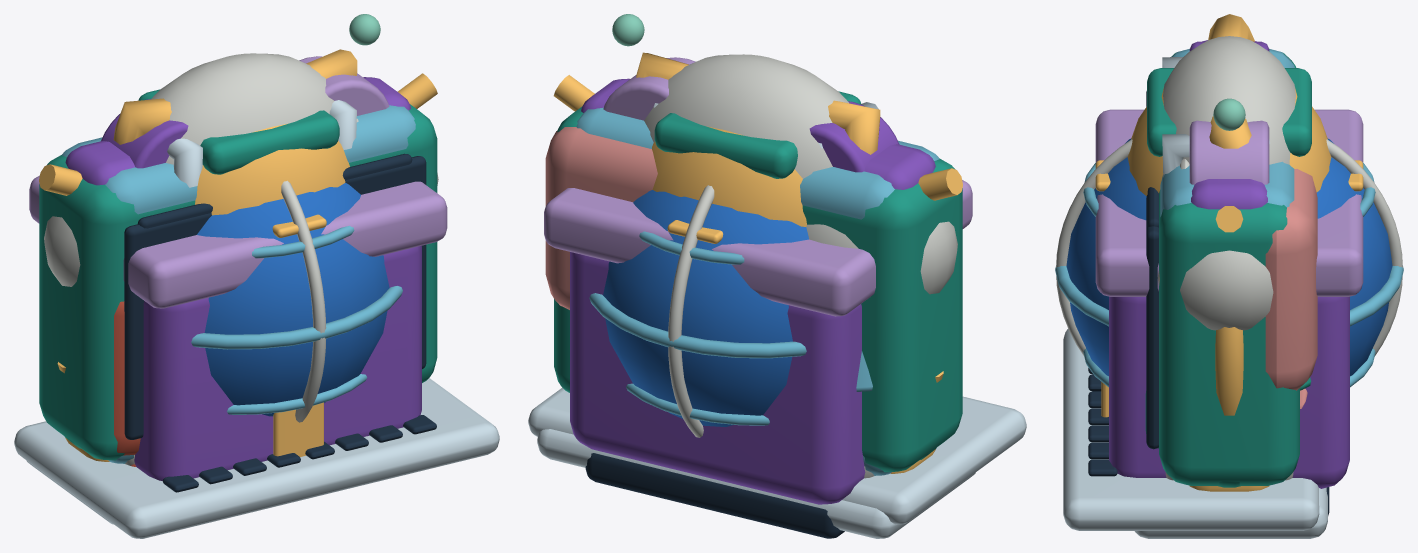
File: navigation-sculptures.glb
The picture shows the model from 3 angles, left to right: view 1: azimuth 30°, elevation 25°; view 2: azimuth 150°, elevation 25°; view 3: azimuth 270°, elevation 25°; orthographic projection. The views are drawn at different scales.
Parts seen in each view (by area): view 1: era-ide, era-lottery, era-developer, era-cloud, miaoji-lab, era-oj, qifa-lab, era-git, acm-team, era-registration, era-forum; view 2: era-lottery, era-ide, era-developer, era-cloud, era-git, miaoji-lab, era-forum, era-oj, qifa-lab, era-team, acm-team; view 3: era-ide, era-lottery, era-developer, era-cloud, era-forum, qifa-lab, era-git, miaoji-lab, era-oj, acm-team, era-team, era-registration.
Boxes of the visible parts, x1,y1,x2,y2 form: era-ide: [14, 104, 499, 538]; era-lottery: [29, 49, 447, 480]; era-developer: [57, 180, 402, 422]; era-cloud: [44, 53, 438, 286]; miaoji-lab: [39, 73, 437, 215]; era-oj: [62, 105, 415, 463]; qifa-lab: [125, 14, 380, 465]; era-git: [101, 56, 389, 168]; acm-team: [65, 77, 410, 185]; era-registration: [167, 100, 356, 187]; era-forum: [114, 301, 140, 466]; era-lottery: [544, 52, 972, 504]; era-ide: [528, 106, 1026, 524]; era-developer: [589, 185, 943, 437]; era-cloud: [644, 54, 957, 294]; era-git: [585, 57, 899, 538]; miaoji-lab: [553, 75, 962, 226]; era-forum: [545, 127, 657, 309]; era-oj: [576, 107, 939, 475]; qifa-lab: [612, 14, 874, 478]; era-team: [537, 351, 975, 538]; acm-team: [581, 78, 935, 189]; era-ide: [1063, 52, 1319, 530]; era-lottery: [1095, 14, 1363, 488]; era-developer: [1055, 138, 1403, 415]; era-cloud: [1157, 36, 1295, 330]; era-forum: [1265, 169, 1317, 408]; qifa-lab: [1147, 68, 1311, 480]; era-git: [1180, 41, 1329, 515]; miaoji-lab: [1127, 88, 1331, 232]; era-oj: [1147, 48, 1294, 484]; acm-team: [1191, 40, 1267, 209]; era-team: [1134, 377, 1327, 538]; era-registration: [1145, 57, 1269, 448].
Size of the model in its own units: 1.58 by 1.62 by 1.19.
